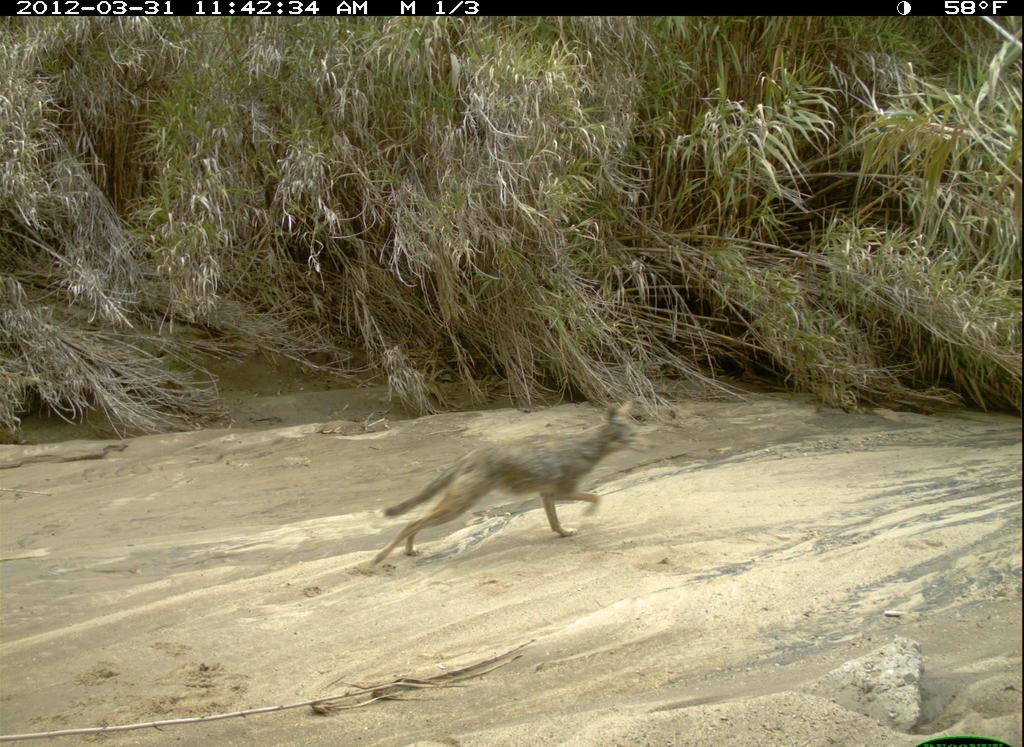coyote: (365, 395, 656, 580)
